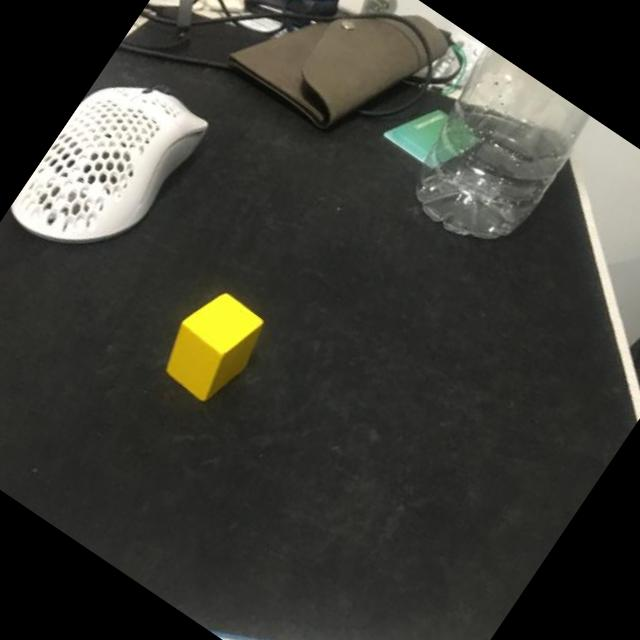yellow: (150, 282, 274, 413)
